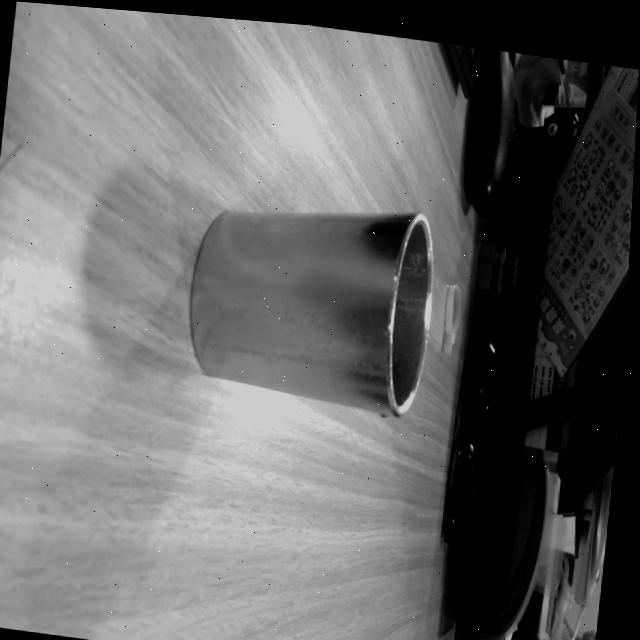Co_Lon: (187, 203, 435, 418)
